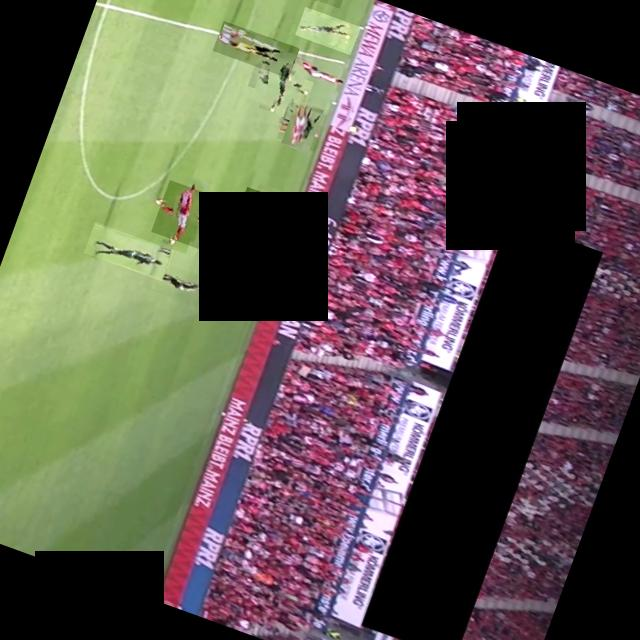referee: (212, 21, 298, 78)
soccer-player: (83, 222, 173, 282), (150, 180, 220, 250), (250, 54, 310, 114), (140, 259, 210, 309), (294, 7, 360, 55), (232, 187, 286, 241), (276, 102, 326, 152), (306, 0, 346, 8)
